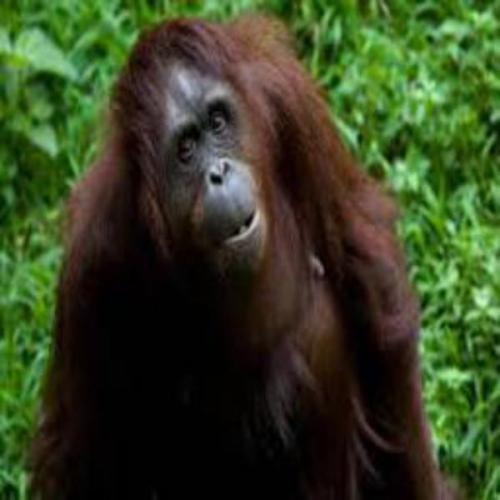orangutan-endangered: (83, 46, 404, 483)
